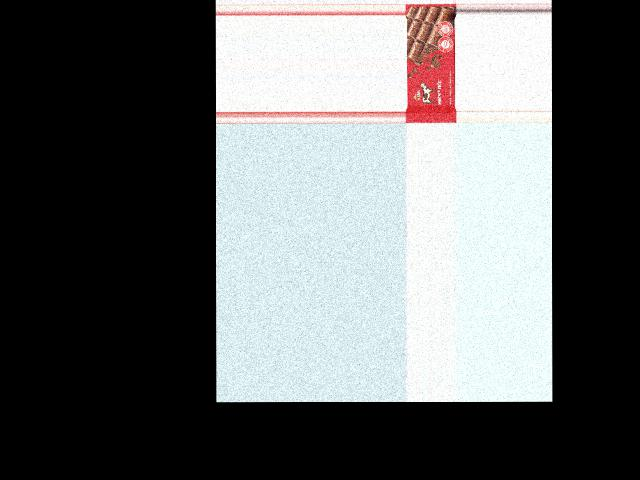chocolate: (406, 4, 457, 121)
